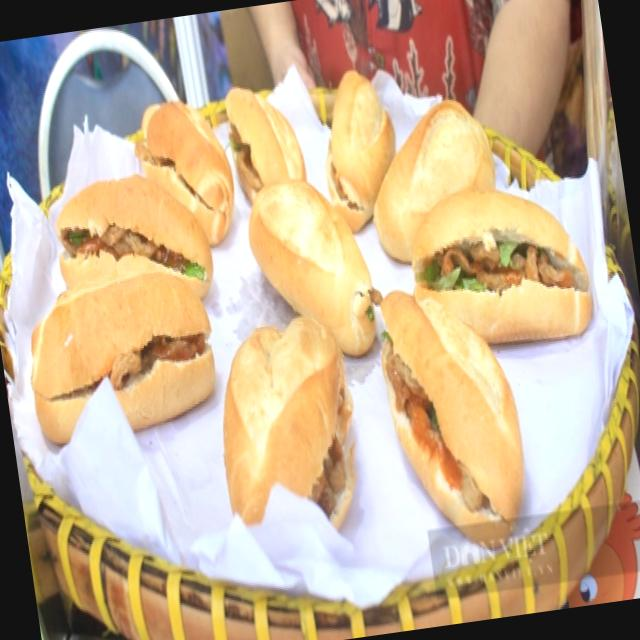banh mi: (328, 70, 591, 525), (31, 102, 233, 444), (223, 88, 375, 526)
